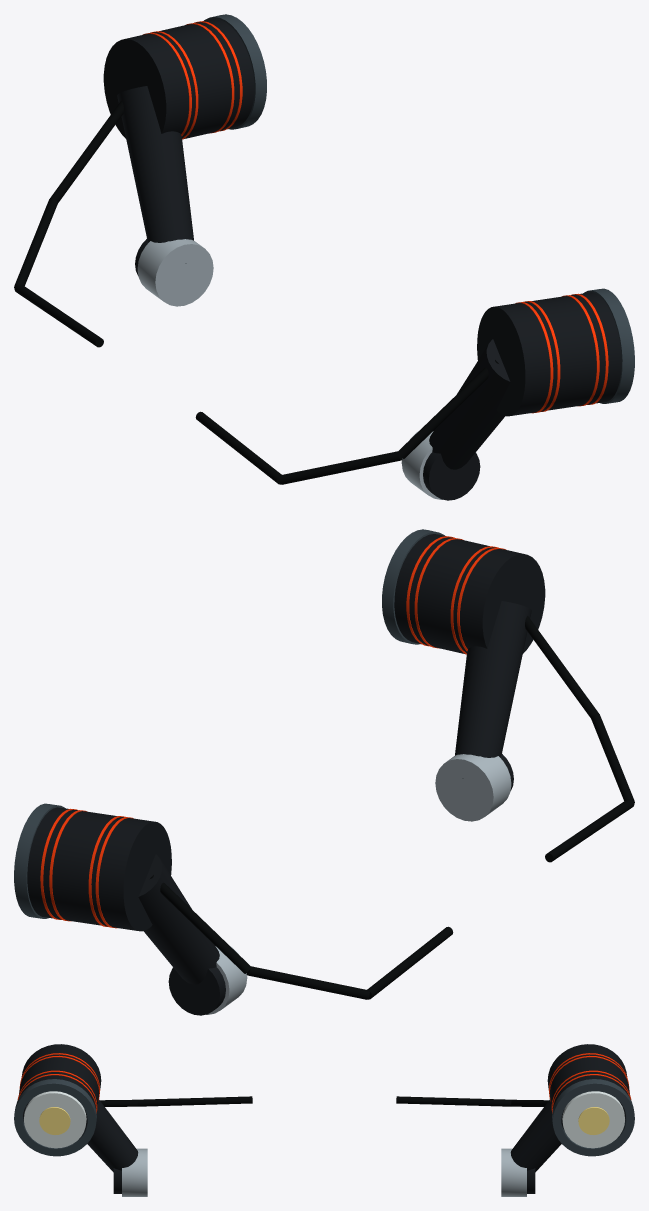
Rendered from rov_lights.dae.
3 renders of one model, top to bottom at view 1: azimuth 30°, elevation 25°; view 2: azimuth 150°, elevation 25°; view 3: azimuth 270°, elevation 25°, orthographic. The views are drawn at different scales.
Parts seen in each view (by area): view 1: node0, node6, node1, node2, node3; view 2: node0, node6, node1, node2, node3; view 3: node0, node3, node4, node6, node1, node2, node5.
Boxes of the visible parts, x1,y1,x2,y2 form: node0: (103, 19, 621, 500); node6: (14, 101, 498, 484); node1: (137, 239, 476, 499); node2: (142, 21, 608, 413); node3: (204, 14, 634, 403); node0: (27, 534, 545, 1015); node6: (150, 616, 634, 999); node1: (172, 754, 511, 1014); node2: (40, 536, 506, 928); node3: (14, 529, 444, 918); node0: (19, 1044, 629, 1193); node3: (14, 1079, 634, 1156); node4: (24, 1091, 624, 1148); node6: (100, 1096, 548, 1106); node1: (122, 1148, 526, 1196); node2: (17, 1053, 631, 1113); node5: (39, 1107, 609, 1134).
Bounding box in the file's own units: 0.1644 × 0.4367 × 0.1204.
